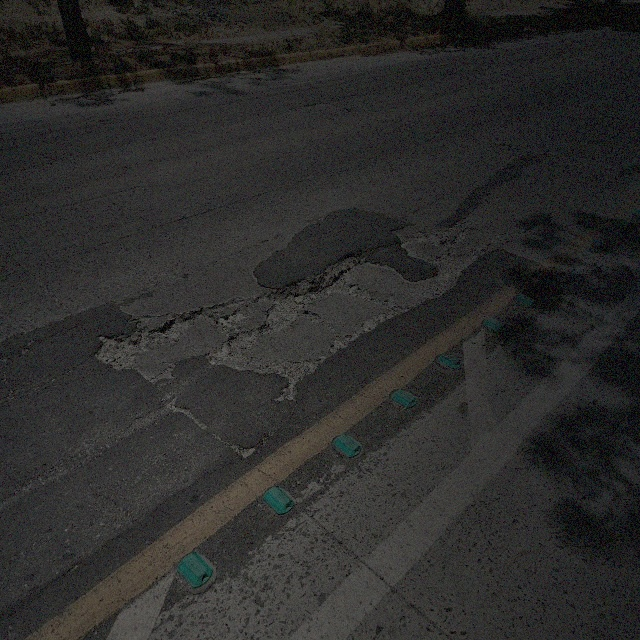pothole: (262, 263, 348, 338), (268, 349, 323, 403), (341, 308, 395, 350), (430, 250, 468, 300), (93, 328, 138, 368), (160, 307, 199, 344), (389, 222, 441, 245), (441, 212, 474, 244), (490, 232, 502, 243)
